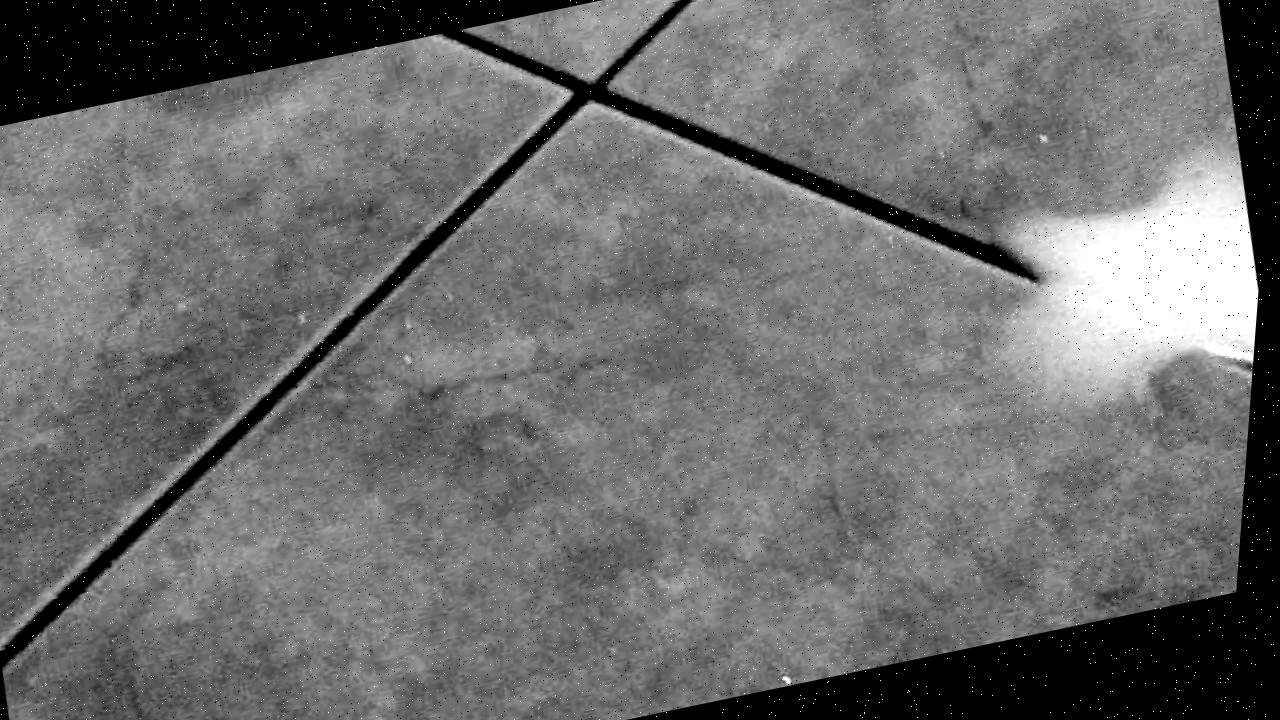drinks Stains: (960, 132, 1272, 474)
